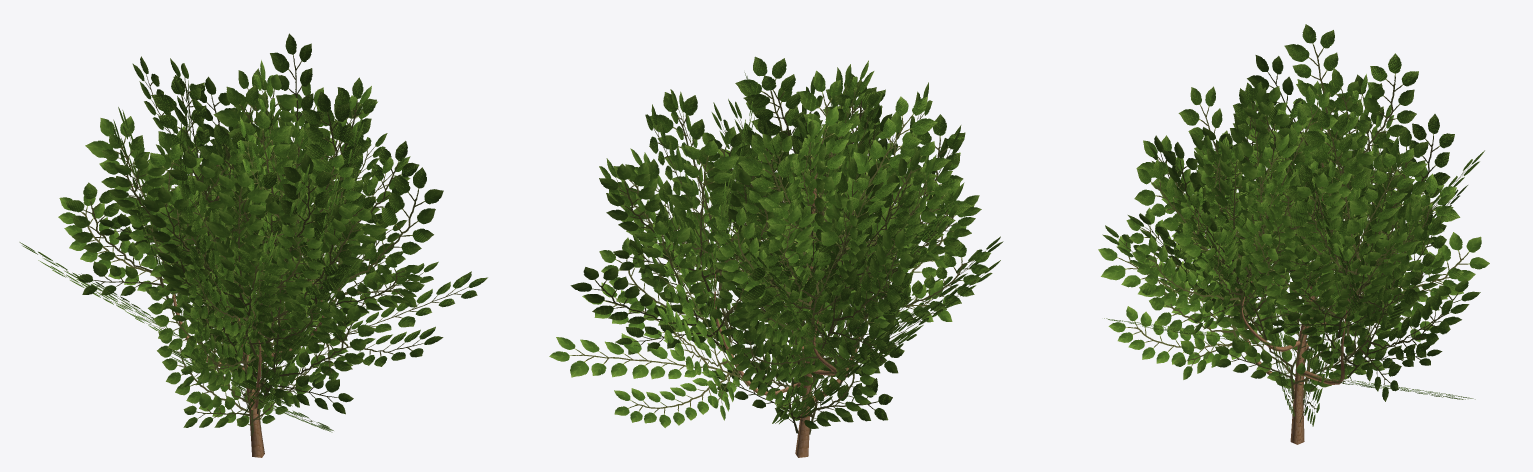
File: Bush 01.fbx
3 renders of one model, left to right at view 1: azimuth 30°, elevation 25°; view 2: azimuth 150°, elevation 25°; view 3: azimuth 270°, elevation 25°, orthographic. The views are drawn at different scales.
Visible parts, largest first — view 1: Bush_01; view 2: Bush_01; view 3: Bush_01.
Boxes of the visible parts, x1=… form: Bush_01: x1=19, y1=33, x2=487, y2=457; Bush_01: x1=549, y1=56, x2=1003, y2=457; Bush_01: x1=1098, y1=24, x2=1489, y2=444.
Bounding box in the file's own units: 197 × 191 × 204.
